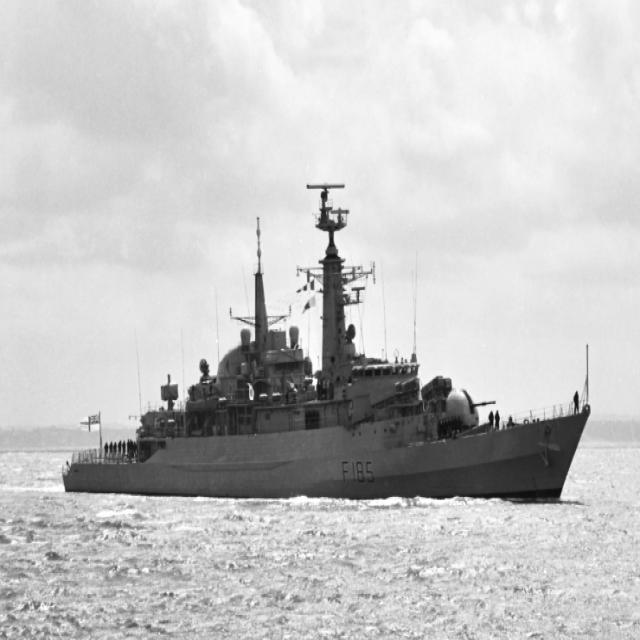Fragata: (59, 174, 593, 507)
